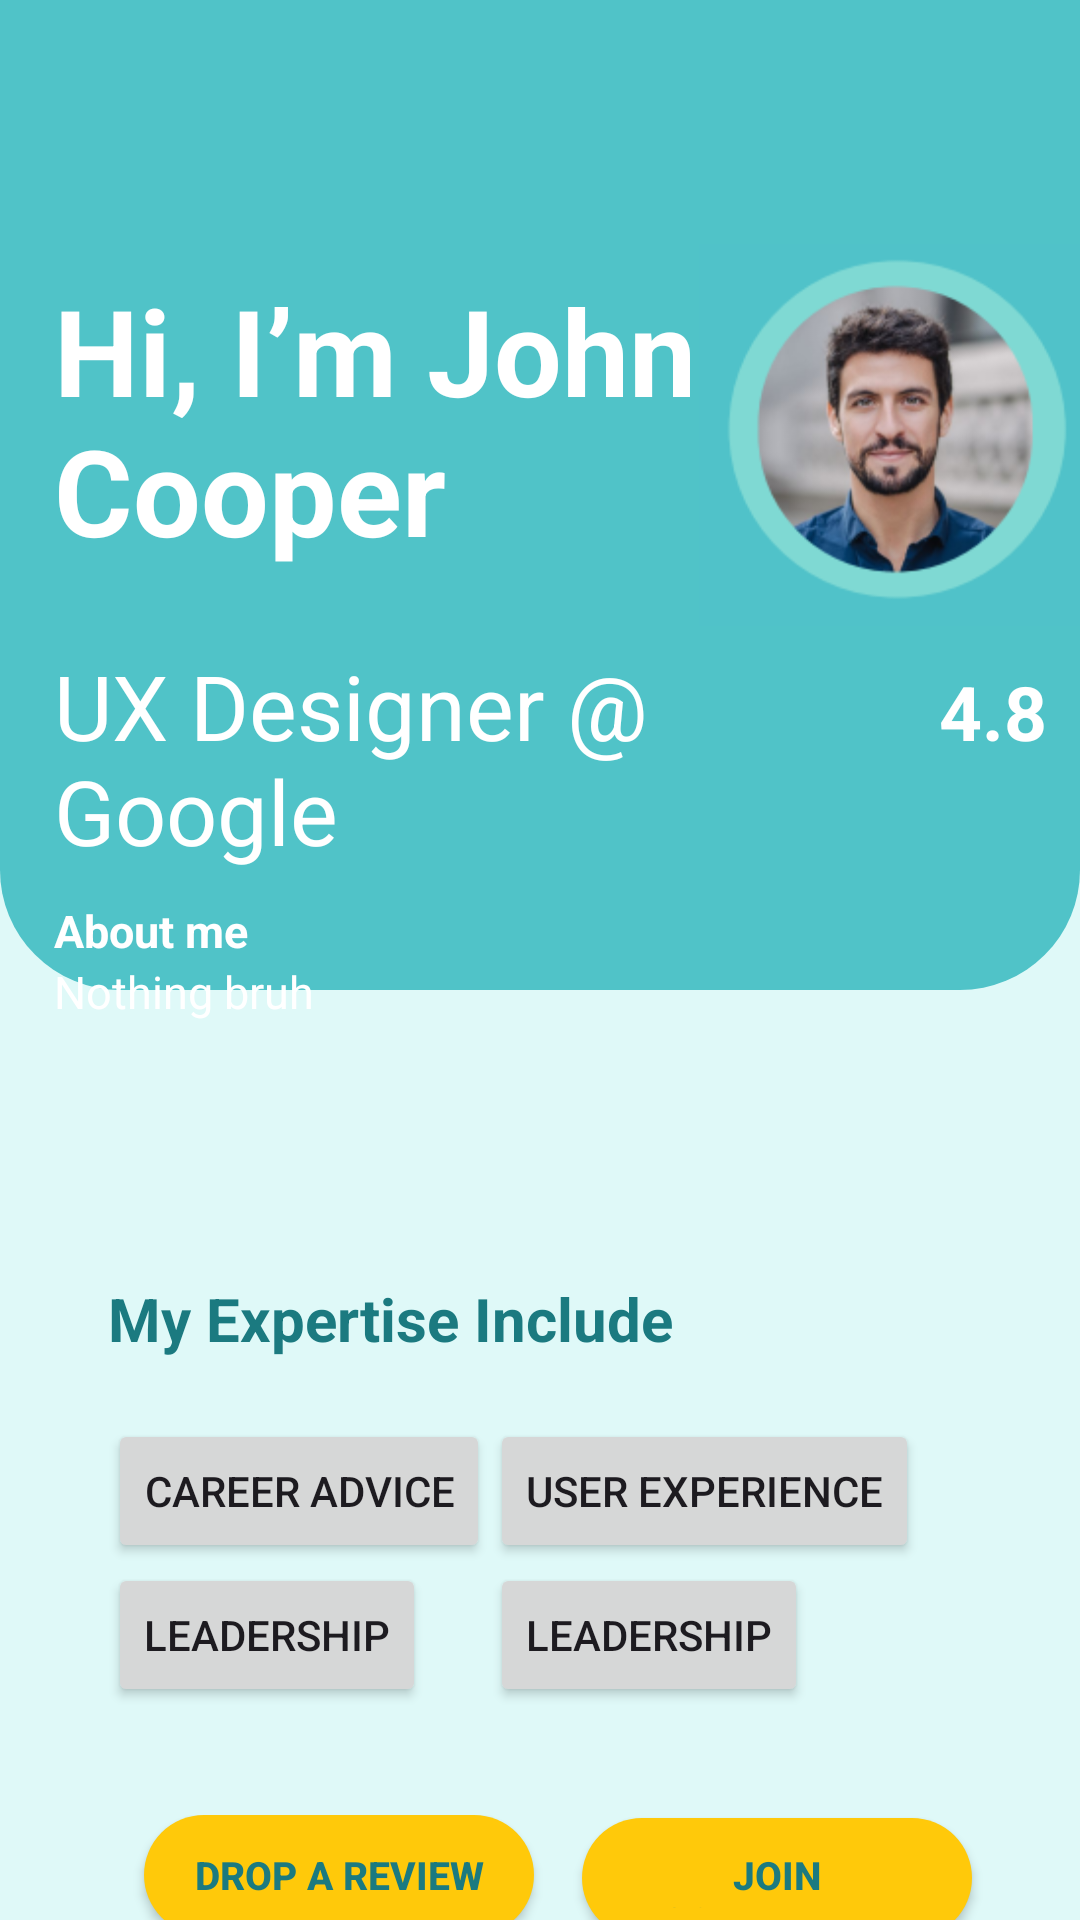

Icons on this 1080px×1920px Android screen, each with its box as (x1, y1, x2, y2):
cooperpfp: (729, 261, 1066, 598)
